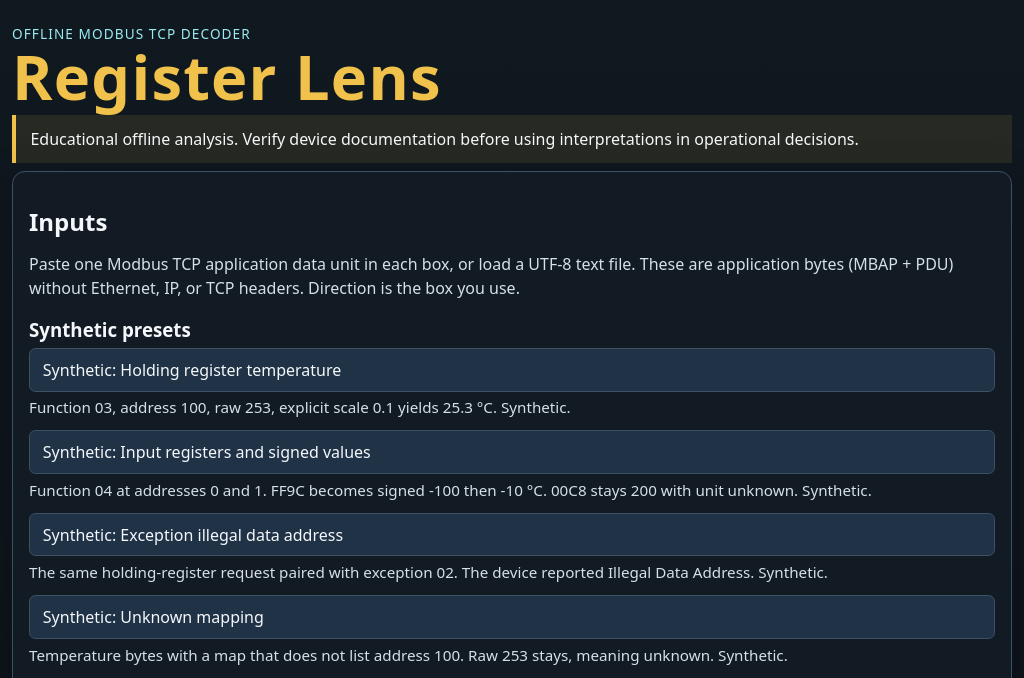
Test: Register Lens UI › offers selectable text when the clipboard refuses
The image size is (1024, 678).
Click the button "Synthetic: Holding register temperature" at {"x": 192, "y": 370}, box 29,348 -> 995,392
(page scrolled)
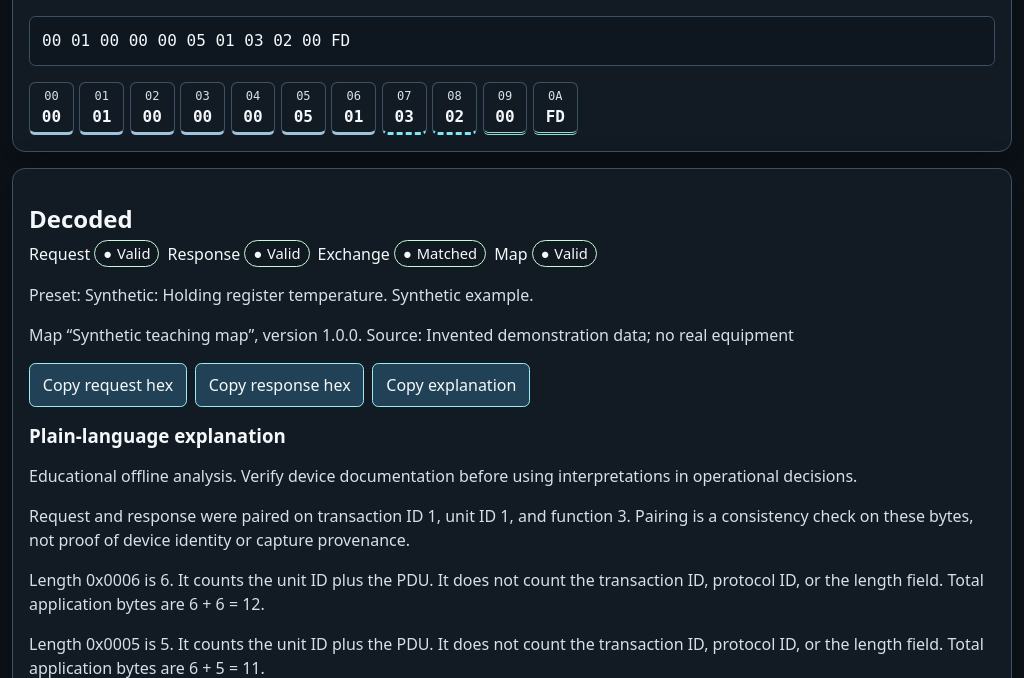
Click the button "Copy explanation" at {"x": 451, "y": 385}, box 372,363 -> 530,407
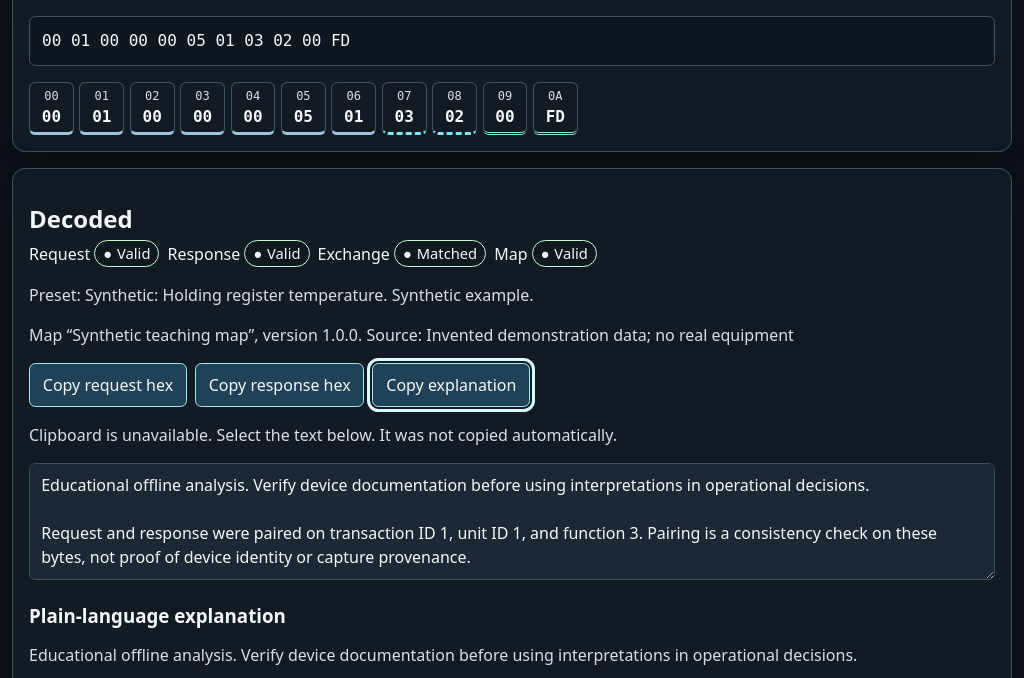
Result: the text "was not copied automatically" is shown at 29,424 -> 617,446
